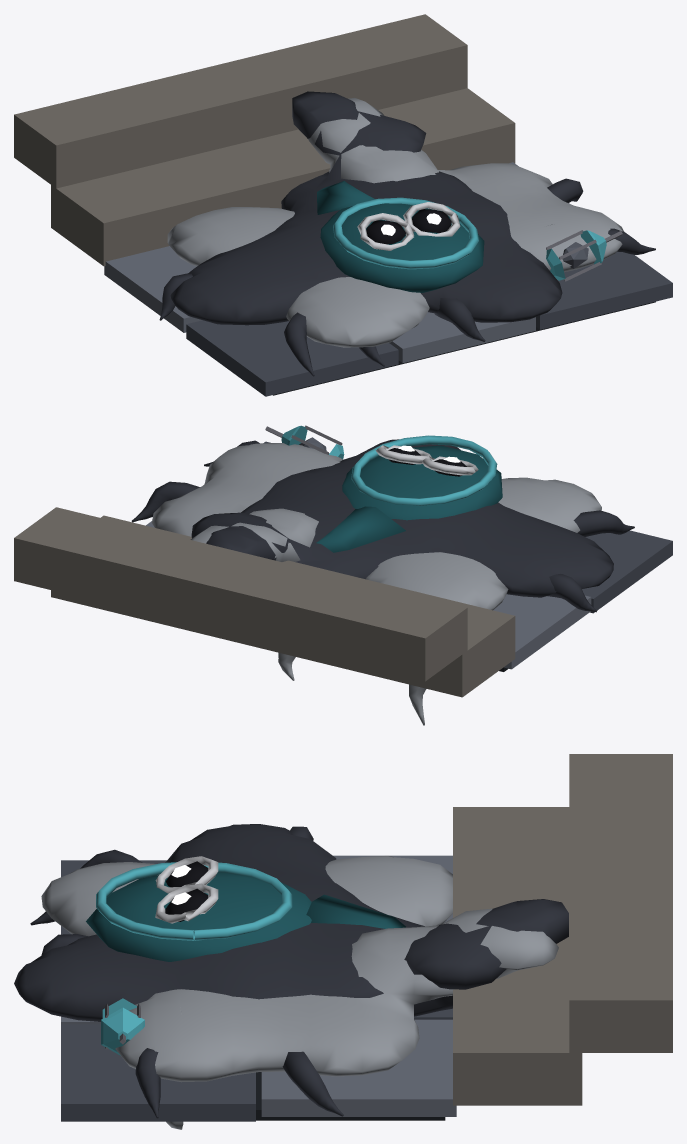
The model's file is fog-black-damp.glb.
The picture shows the model from 3 angles, top to bottom: view 1: azimuth 30°, elevation 25°; view 2: azimuth 150°, elevation 25°; view 3: azimuth 270°, elevation 25°; orthographic projection. The views are drawn at different scales.
Visible parts, largest first — view 1: fog_black_damp, pulse_fog, sway_edge; view 2: fog_black_damp, pulse_fog, sway_edge, sway_under; view 3: fog_black_damp, pulse_fog, sway_edge.
Boxes of the visible parts, x1=… form: fog_black_damp: x1=14, y1=14, x2=672, y2=396; pulse_fog: x1=167, y1=91, x2=624, y2=347; sway_edge: x1=159, y1=178, x2=655, y2=376; fog_black_damp: x1=14, y1=425, x2=672, y2=697; pulse_fog: x1=151, y1=439, x2=613, y2=610; sway_edge: x1=131, y1=440, x2=634, y2=612; sway_under: x1=278, y1=652, x2=426, y2=725; fog_black_damp: x1=61, y1=754, x2=672, y2=1121; pulse_fog: x1=14, y1=824, x2=568, y2=1082; sway_edge: x1=30, y1=826, x2=343, y2=1118.
Bounding box in the file's own units: 0.9724 × 0.3207 × 1.02.
